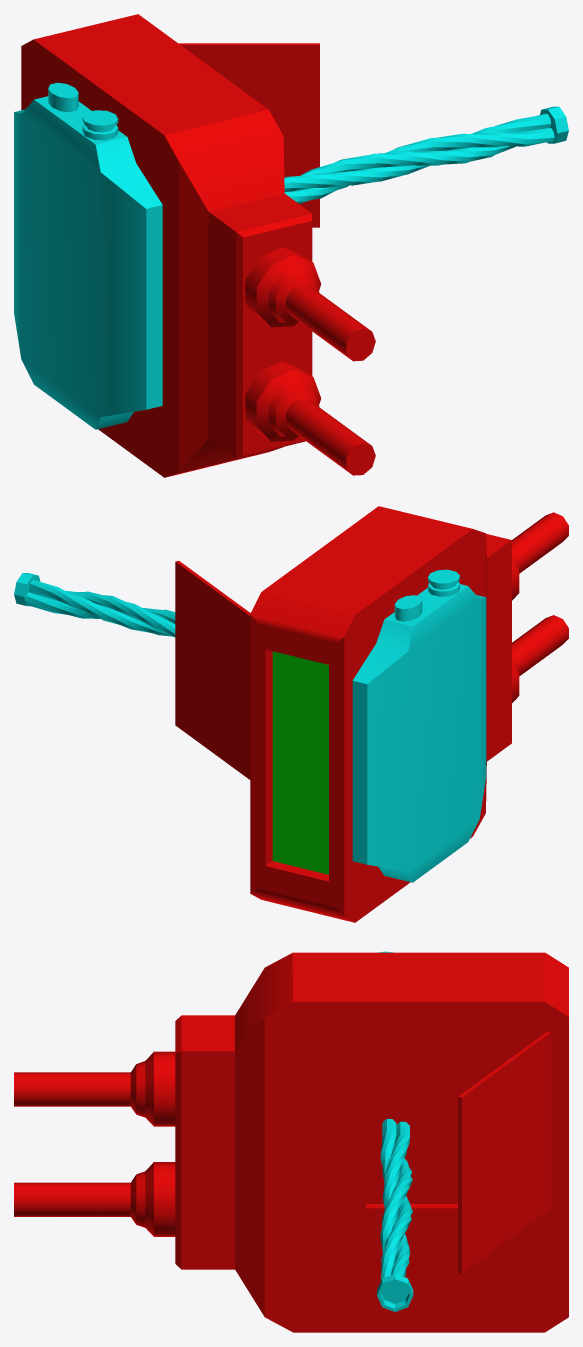
The model's file is Skeleton_Key.fbx.
3 renders of one model, top to bottom at view 1: azimuth 30°, elevation 25°; view 2: azimuth 150°, elevation 25°; view 3: azimuth 270°, elevation 25°, orthographic. The views are drawn at different scales.
Visible parts, largest first — view 1: Keystick_Body, Battery, Panel_Door, Keystick_Top, Keystick_Bottom, Cable_2, Cable_1, Cable_3, Battery_Knob_1, Battery_Knob_2, Plug; view 2: Keystick_Body, Battery, Panel_Door, Keystick_Top, Keystick_Bottom, Cable_1, Cable_2, Cable_3, Battery_Knob_1, Battery_Knob_2; view 3: Keystick_Body, Panel_Door, Keystick_Top, Keystick_Bottom, Cable_2, Cable_1, Cable_3, Plug.
Part boxes in pixels (x1,y1,x2,y2): Keystick_Body: [21, 14, 312, 477]; Battery: [14, 96, 162, 429]; Panel_Door: [178, 43, 319, 227]; Keystick_Top: [245, 247, 375, 361]; Keystick_Bottom: [245, 361, 375, 475]; Cable_2: [284, 127, 554, 203]; Cable_1: [284, 113, 550, 191]; Cable_3: [301, 146, 516, 175]; Battery_Knob_1: [82, 110, 118, 140]; Battery_Knob_2: [48, 82, 78, 112]; Plug: [540, 106, 568, 143]; Keystick_Body: [250, 506, 511, 922]; Battery: [352, 584, 486, 882]; Panel_Door: [175, 560, 250, 779]; Keystick_Top: [512, 512, 568, 600]; Keystick_Bottom: [512, 615, 568, 702]; Cable_1: [29, 580, 172, 636]; Cable_2: [65, 590, 175, 637]; Cable_3: [24, 592, 175, 623]; Battery_Knob_1: [428, 569, 459, 596]; Battery_Knob_2: [394, 595, 422, 621]; Keystick_Body: [175, 952, 568, 1332]; Panel_Door: [458, 1032, 551, 1273]; Keystick_Top: [14, 1051, 175, 1126]; Keystick_Bottom: [14, 1162, 175, 1236]; Cable_2: [380, 1118, 412, 1280]; Cable_1: [382, 1121, 410, 1276]; Cable_3: [380, 1158, 412, 1254]; Plug: [377, 1273, 413, 1311].
Size of the model in its own units: 16.18 by 10.94 by 16.65.
